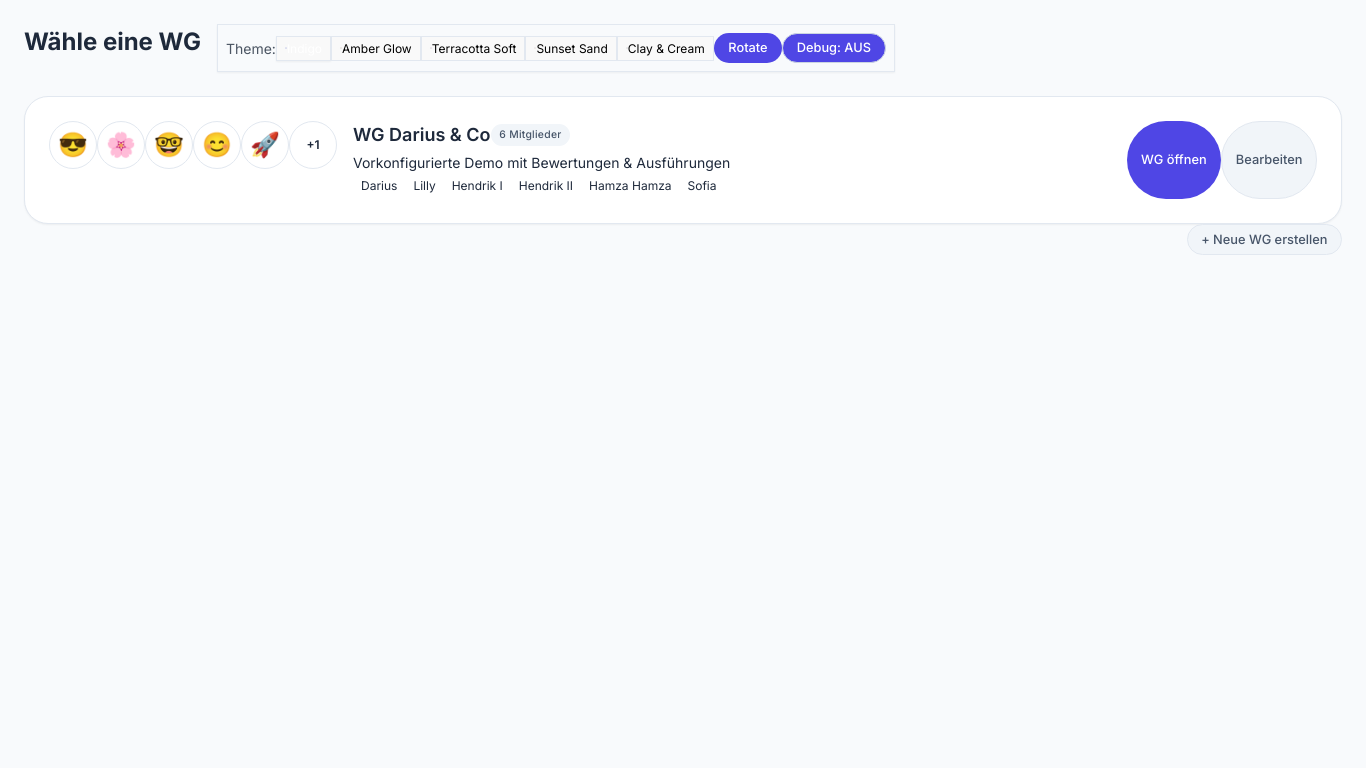
Test: WG Creation Wizard › allows going back to adjust size
The width and height of the screenshot is (1366, 768).
Click the button with test id "create-wg-btn": (1264, 240) [1186, 224, 1342, 255]
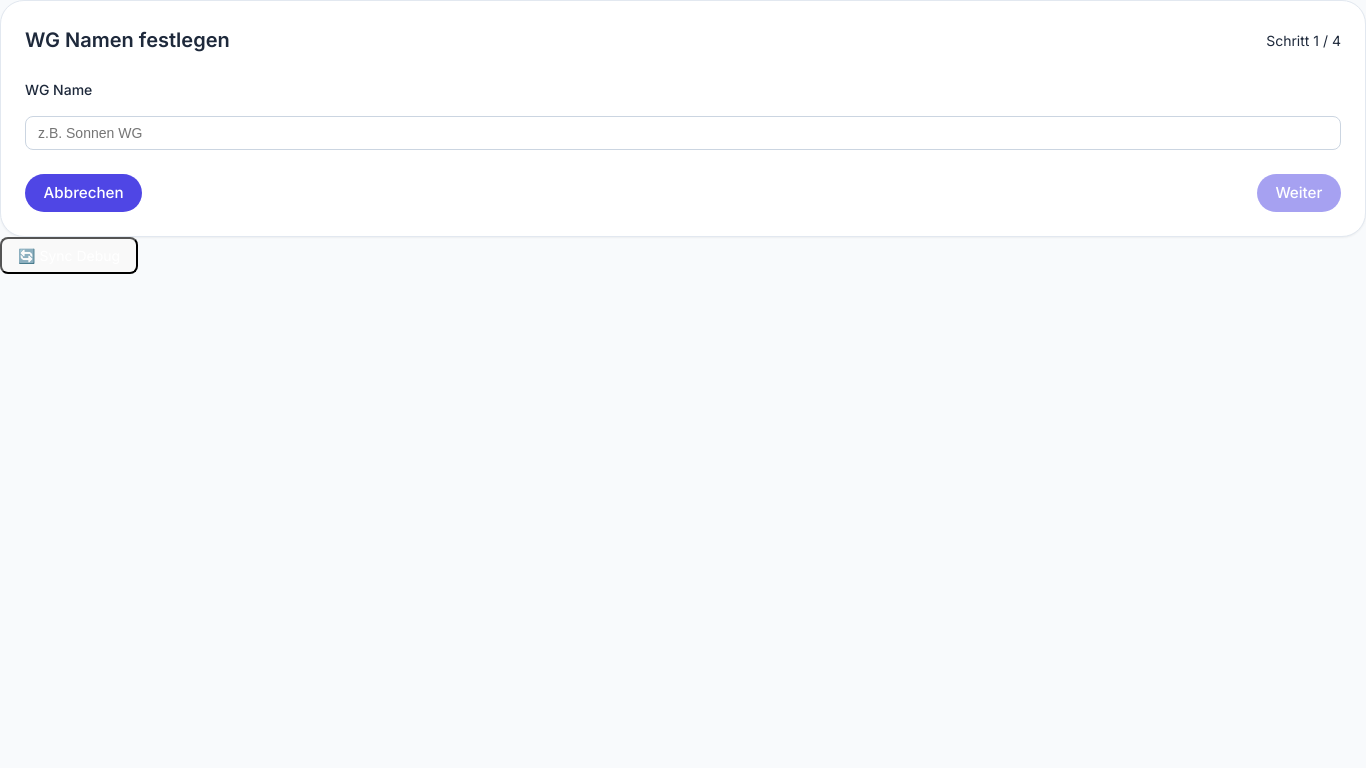
In the field with placeholder "z.B. Sonnen WG": (683, 133) [25, 116, 1341, 150], type "Back WG"
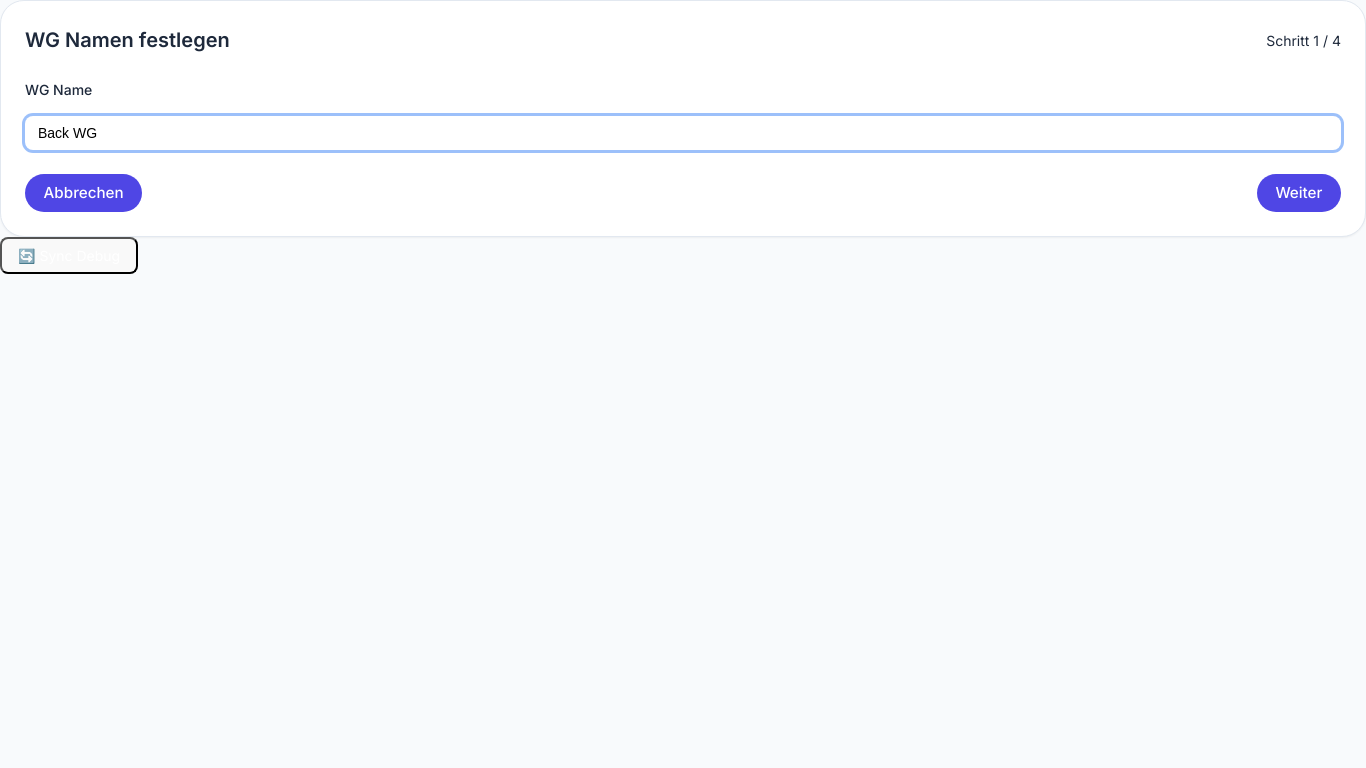
Click the button with test id "next-btn": (1299, 193) [1257, 174, 1341, 212]
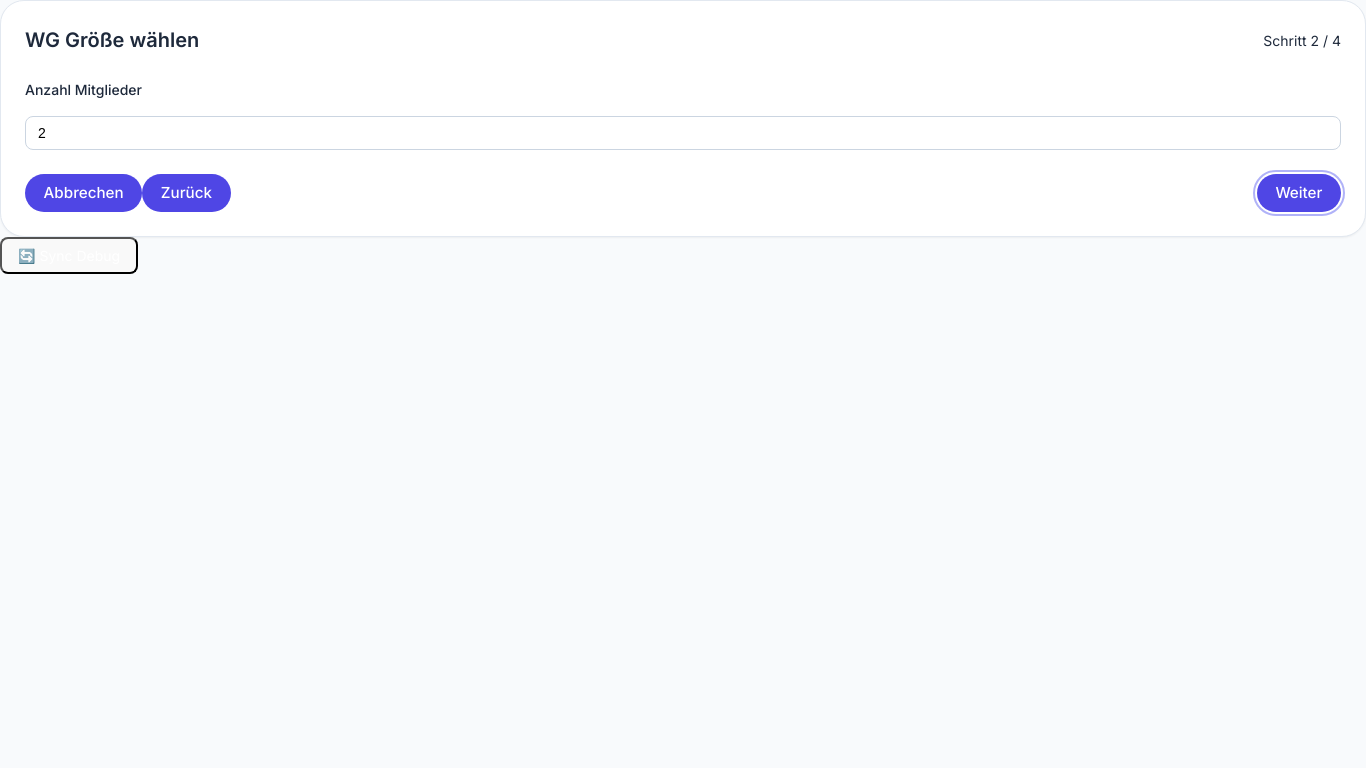
Replace the text in the number field with "4": (683, 133) [25, 116, 1341, 150]
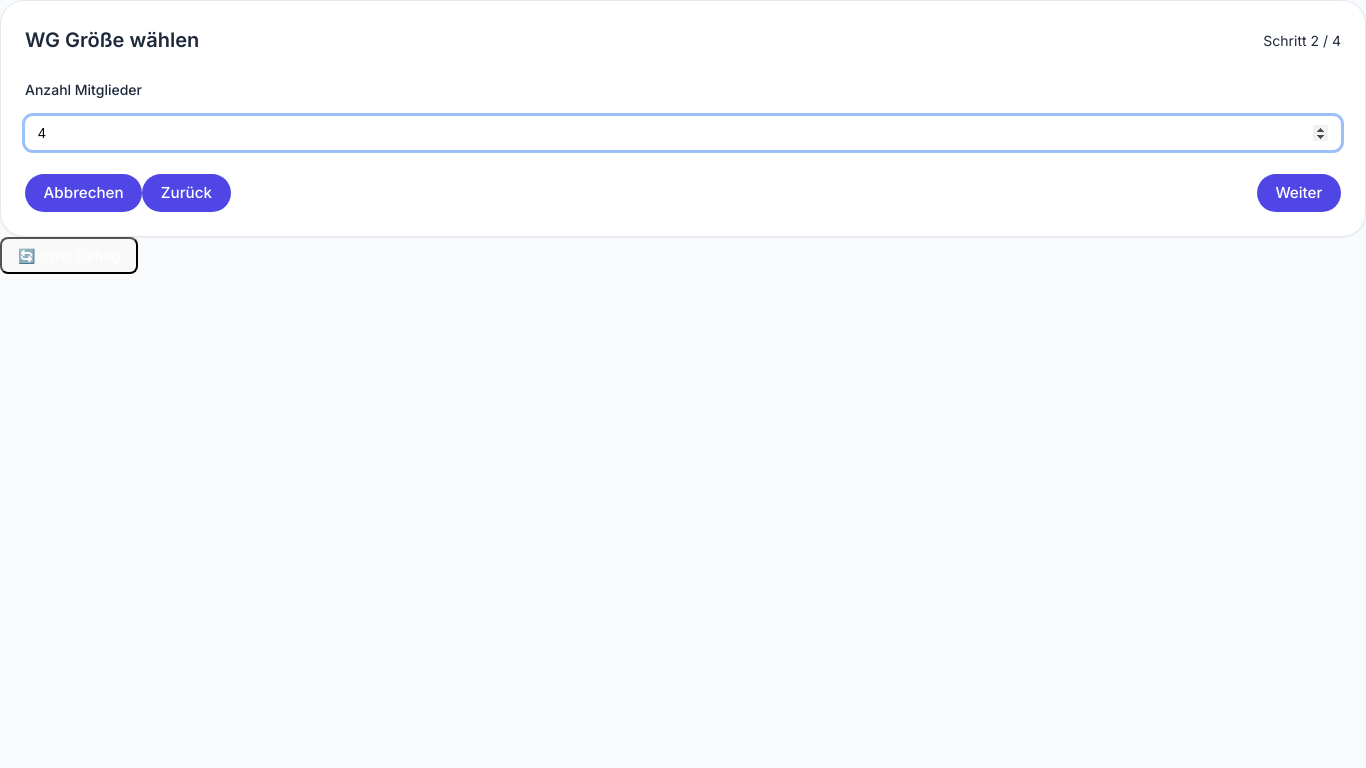
Click the button with test id "next-btn": (1299, 193) [1257, 174, 1341, 212]
(page scrolled)
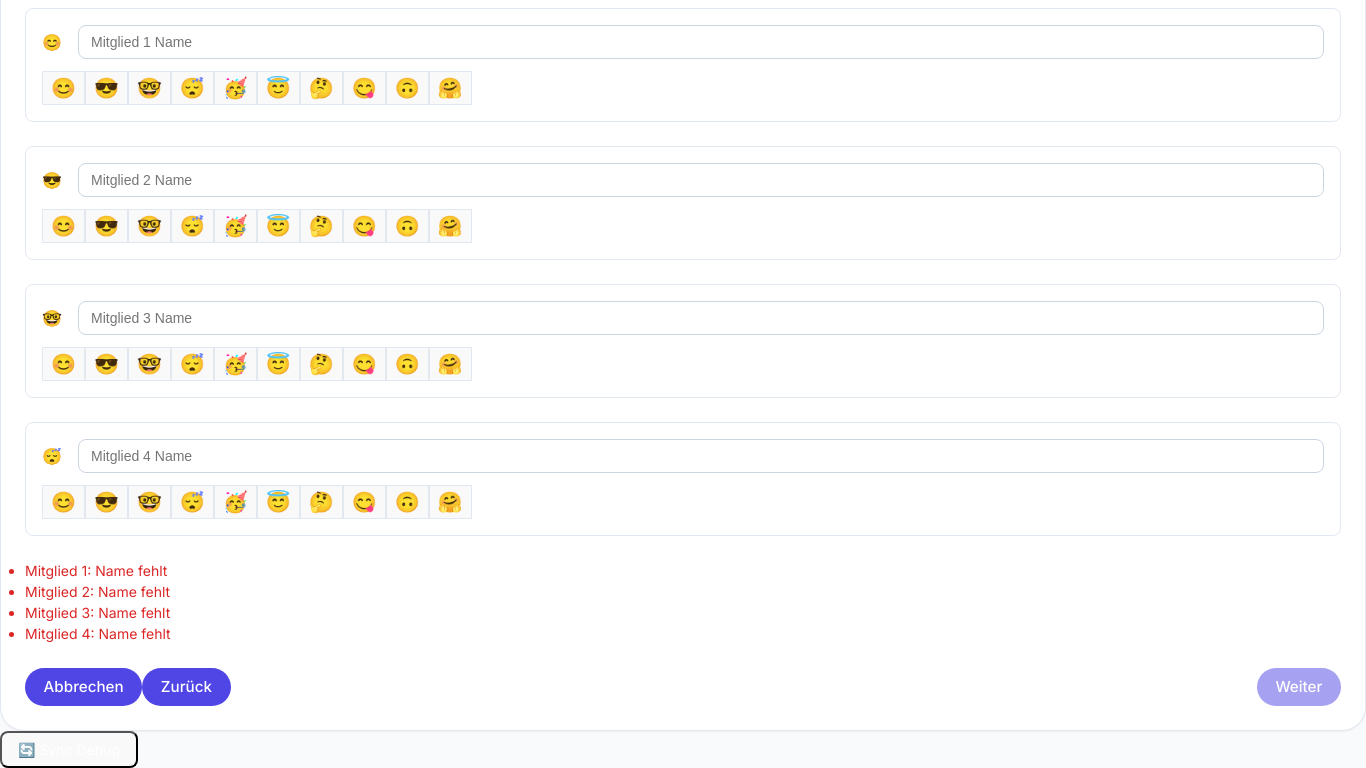
Check: the element with test id "step-members" is shown
Click the button "Zurück": (186, 687) [142, 668, 230, 706]
(page scrolled)
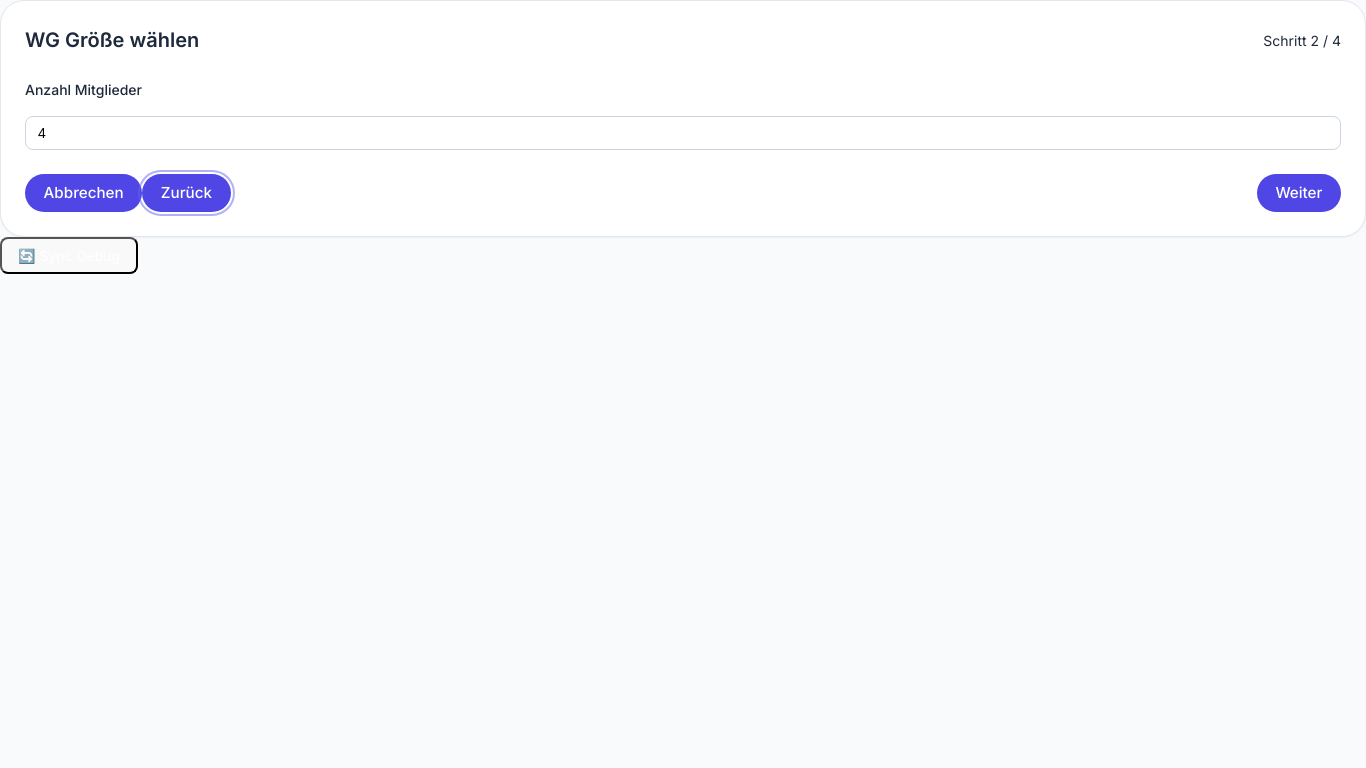
Check: the element with test id "step-size" is shown, box [25, 79, 1341, 150]
